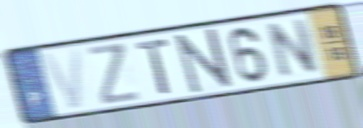6: (227, 24, 270, 85)
N: (172, 26, 235, 96), (265, 16, 321, 81)
T: (134, 36, 174, 97)
V: (39, 46, 86, 112)
Z: (84, 40, 144, 107)
